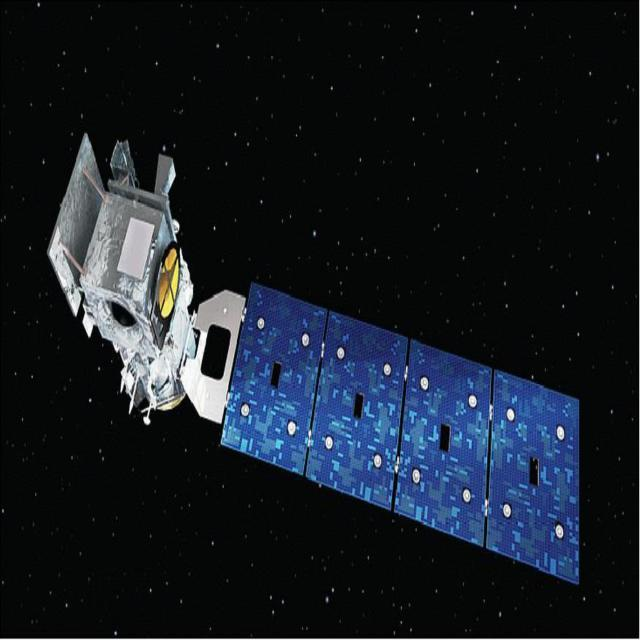sat: (0, 103, 607, 599)
